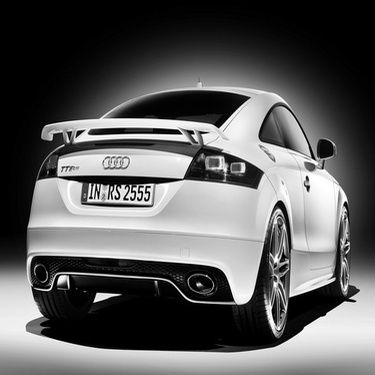car: (18, 79, 354, 348)
